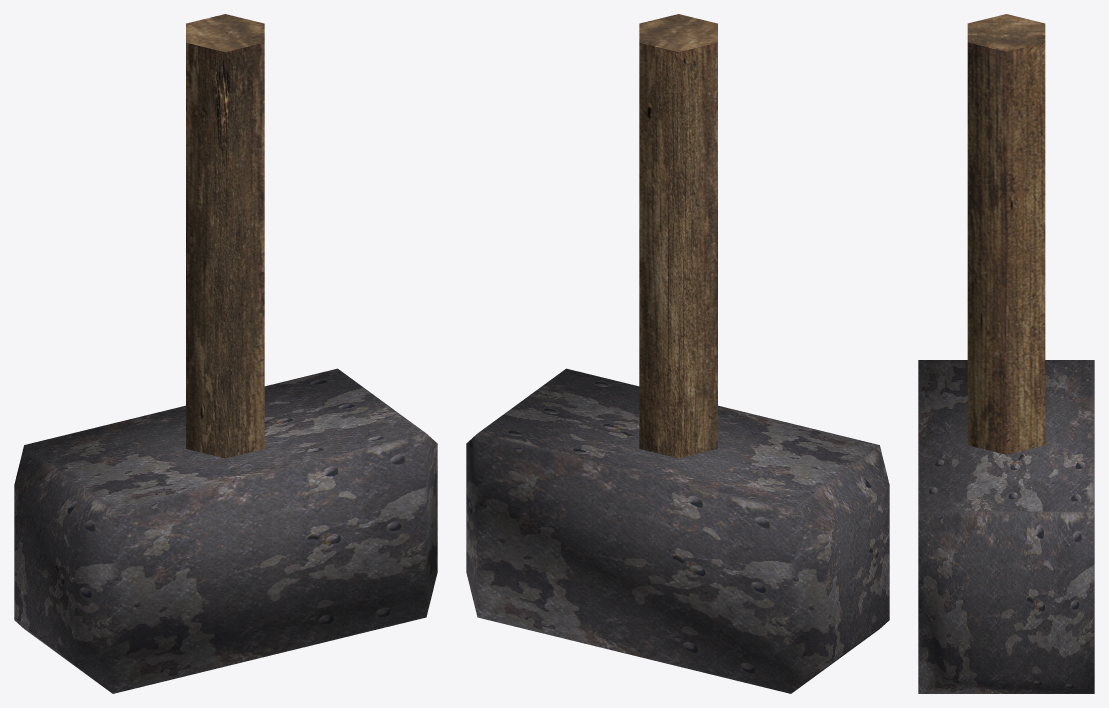
Rendered from hammer.fbx.
3 views of the same model, side by side, from view 1: azimuth 30°, elevation 25°; view 2: azimuth 150°, elevation 25°; view 3: azimuth 270°, elevation 25° (orthographic).
Visible parts, largest first — view 1: hammer, handle; view 2: hammer, handle; view 3: hammer, handle.
Part boxes in pixels (x1,y1,x2,y2): hammer: (14,368,437,693); handle: (186,14,264,458); hammer: (466,368,889,693); handle: (639,14,717,458); hammer: (918,360,1094,693); handle: (967,14,1045,454).
Size of the model in its own units: 232 by 372 by 98.03.
Materials: 2 (2 with a texture image).
